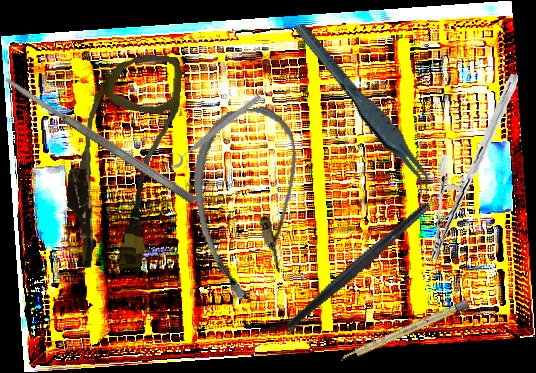Cannula: (62, 50, 183, 274), (184, 102, 317, 305)
Chopper: (255, 169, 481, 333)
Fixation Ring: (163, 87, 264, 171)
Needle Holder: (414, 73, 534, 264)
Scalpel Handle: (339, 299, 470, 364)
Spatula Surgical: (2, 73, 199, 207)
Tissue Forceps: (292, 9, 438, 208)
